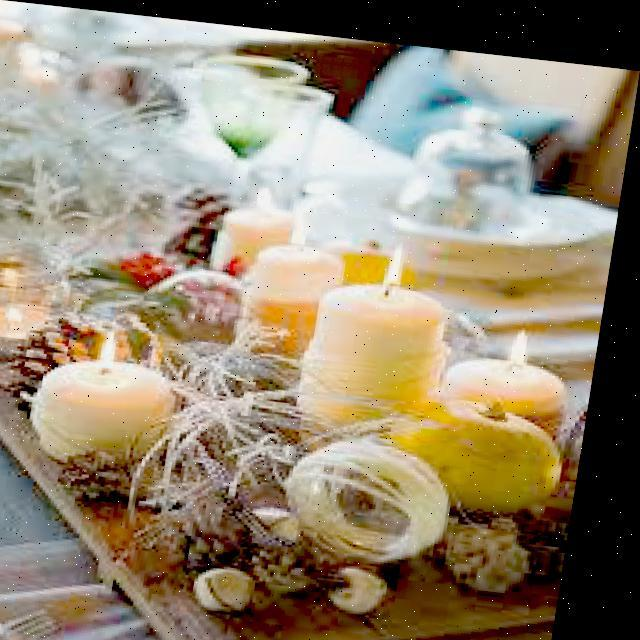Fire: (502, 310, 558, 358), (376, 230, 416, 284), (94, 321, 136, 368), (284, 204, 325, 244), (0, 298, 44, 333), (248, 172, 285, 206)
